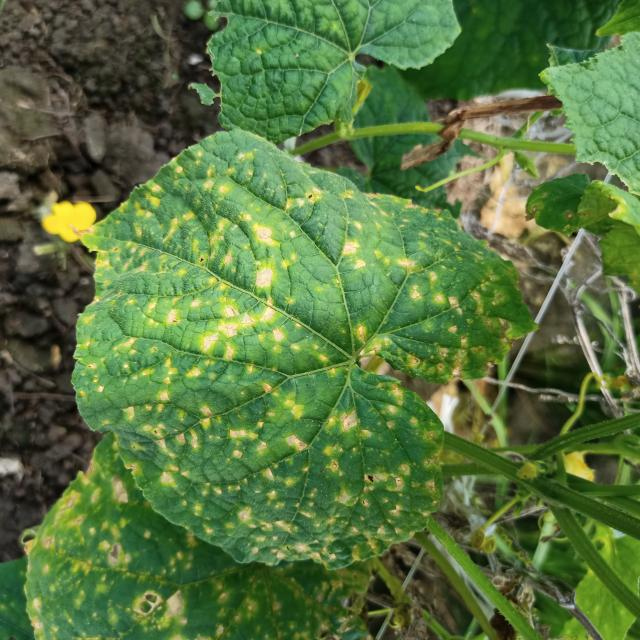disease_cucumber: (75, 142, 509, 570), (19, 475, 382, 640)
